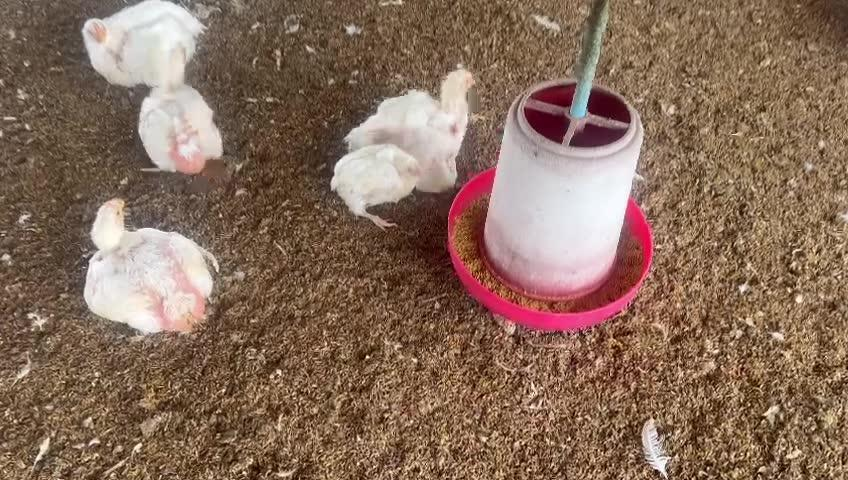AbNormal: (66, 195, 228, 332), (334, 144, 429, 233)
Normal: (345, 68, 482, 165), (140, 40, 229, 179), (81, 1, 218, 76)
